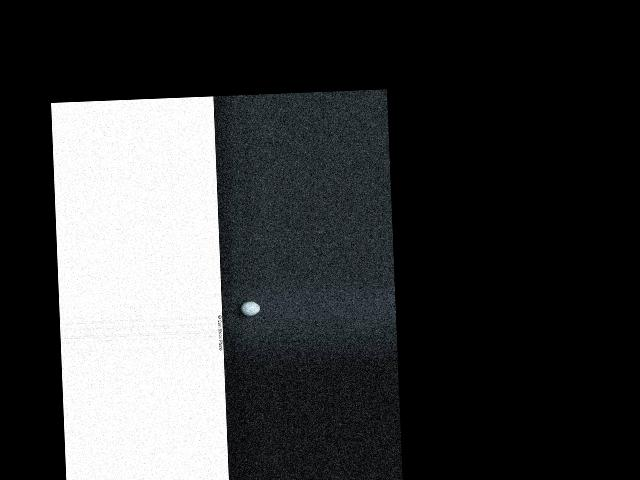egg: (240, 301, 260, 316)
